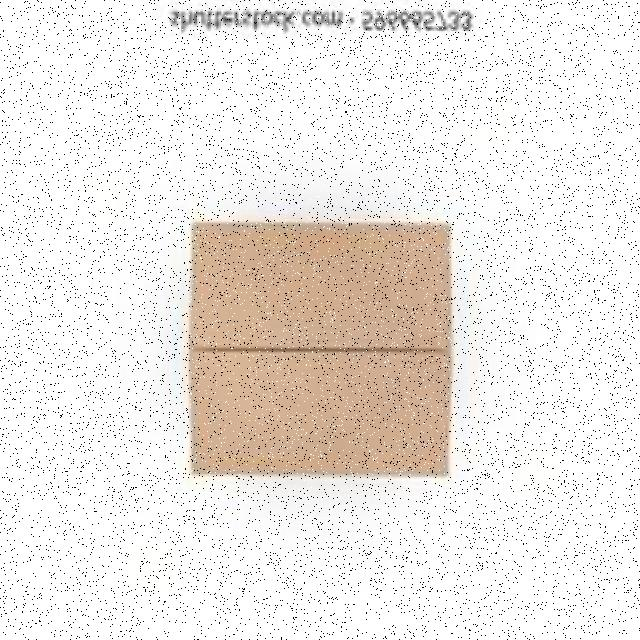normal: (182, 208, 464, 484)
